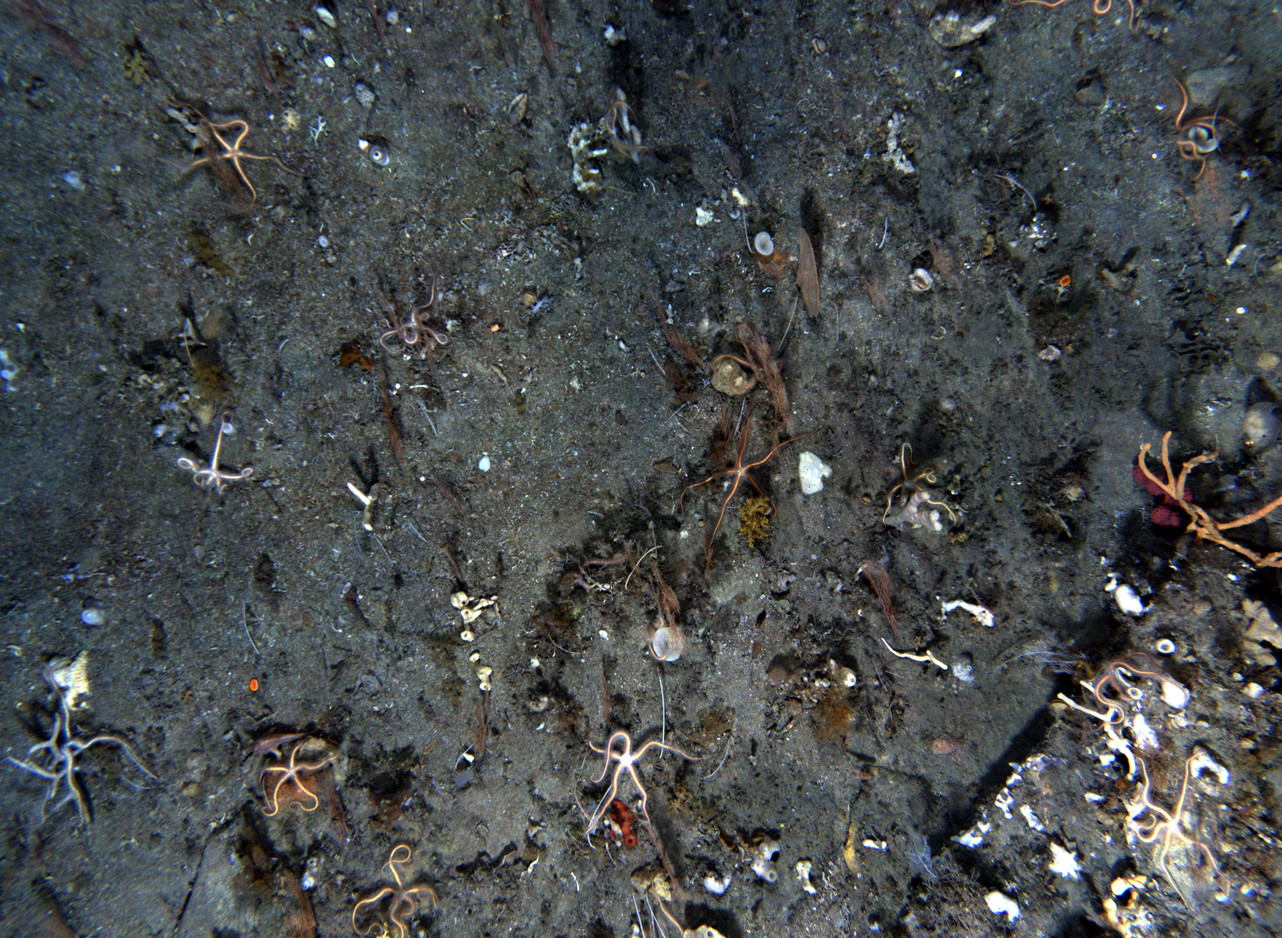Brachionichthyidae: (239, 725, 316, 763)
